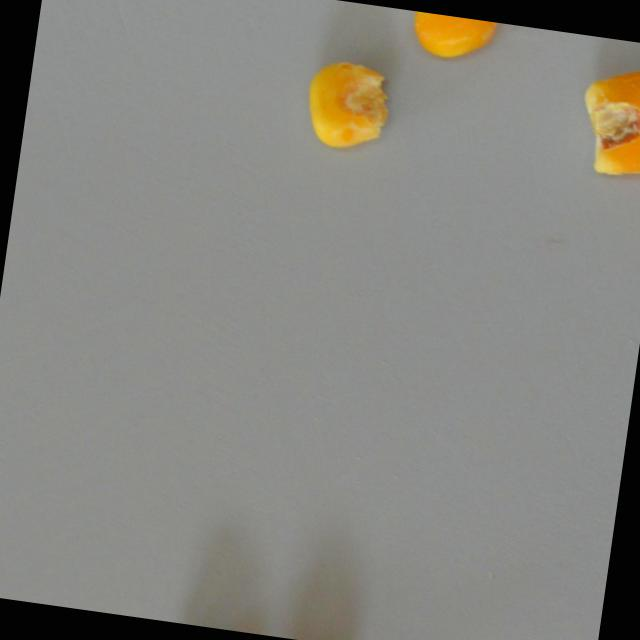dañado: (299, 53, 399, 156), (570, 56, 640, 182)
no_desgerminado: (404, 10, 498, 67)
